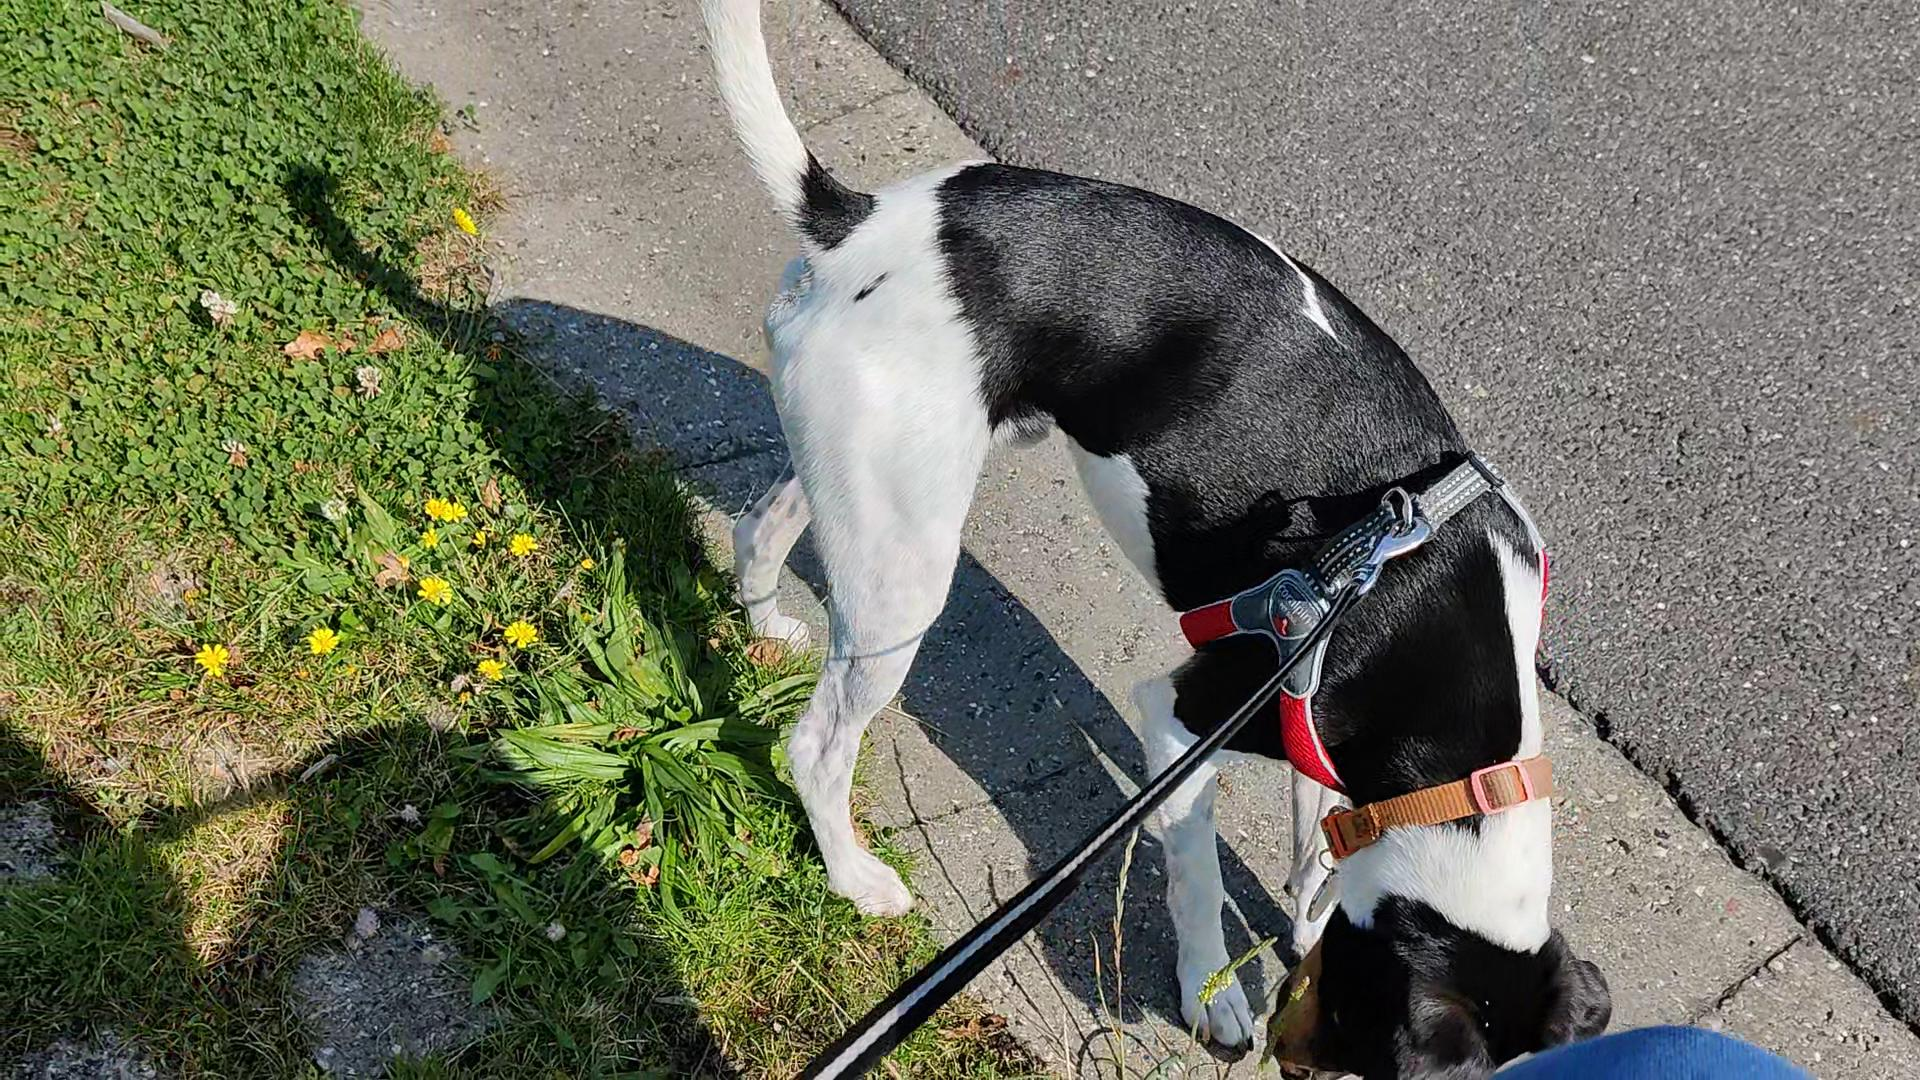Dog: (688, 4, 1619, 1079)
